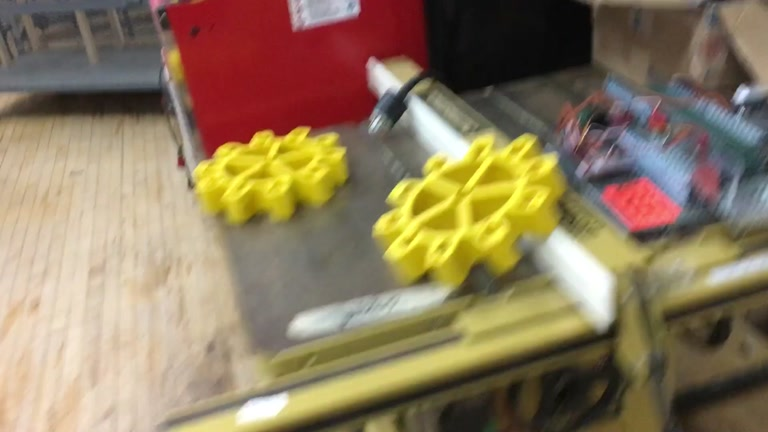gear: (372, 134, 569, 287), (194, 125, 350, 228)
